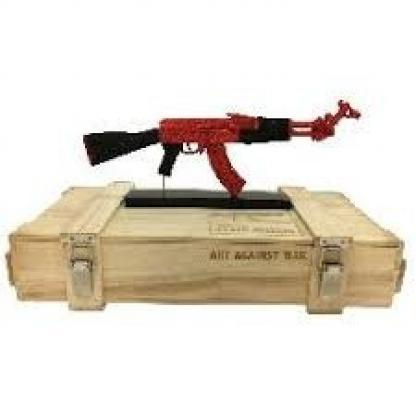Gun: (80, 109, 346, 194)
